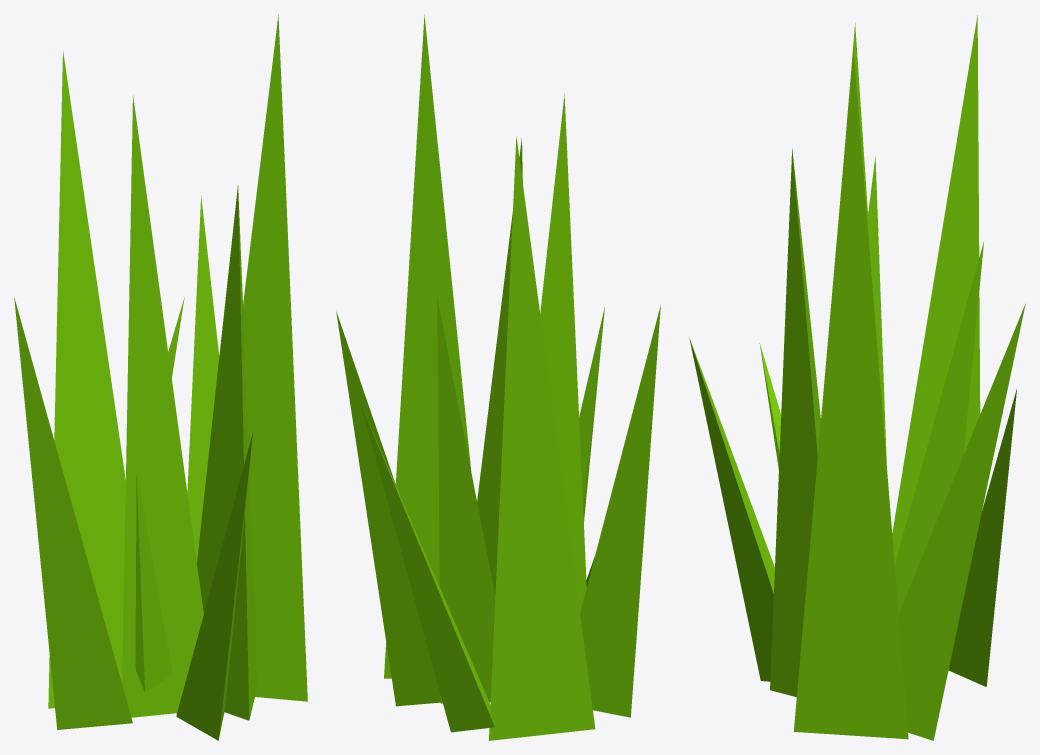
Rendered from grass_bud.obj.
3 renders of one model, left to right at view 1: azimuth 30°, elevation 25°; view 2: azimuth 150°, elevation 25°; view 3: azimuth 270°, elevation 25°, orthographic. The views are drawn at different scales.
Visible parts, largest first — view 1: Cone.001_Cone.004, Cone_Cone.003, Cone.004_Cone.007, Cone.006_Cone.009, Cone.003_Cone.006, Cone.007_Cone.010, Cone.005_Cone.008, Cone.009_Cone.012; view 2: Cone.004_Cone.007, Cone.001_Cone.004, Cone.006_Cone.009, Cone.002_Cone.005, Cone_Cone.003, Cone.005_Cone.008, Cone.008_Cone.011, Cone.003_Cone.006, Cone.007_Cone.010; view 3: Cone.001_Cone.004, Cone.005_Cone.008, Cone.003_Cone.006, Cone.004_Cone.007, Cone.002_Cone.005, Cone.007_Cone.010, Cone.008_Cone.011, Cone.006_Cone.009, Cone.009_Cone.012, Cone_Cone.003.
Part boxes in pixels (bbox=[...]): Cone.001_Cone.004: bbox=[243, 14, 307, 701]; Cone_Cone.003: bbox=[122, 95, 203, 717]; Cone.004_Cone.007: bbox=[48, 51, 125, 708]; Cone.006_Cone.009: bbox=[14, 298, 132, 729]; Cone.003_Cone.006: bbox=[197, 185, 256, 720]; Cone.007_Cone.010: bbox=[176, 431, 253, 740]; Cone.005_Cone.008: bbox=[187, 195, 219, 561]; Cone.009_Cone.012: bbox=[135, 473, 172, 692]; Cone.004_Cone.007: bbox=[489, 136, 595, 740]; Cone.001_Cone.004: bbox=[384, 14, 471, 678]; Cone.006_Cone.009: bbox=[580, 304, 660, 717]; Cone.002_Cone.005: bbox=[437, 296, 495, 703]; Cone_Cone.003: bbox=[540, 94, 586, 612]; Cone.005_Cone.008: bbox=[336, 312, 440, 706]; Cone.008_Cone.011: bbox=[360, 403, 494, 732]; Cone.003_Cone.006: bbox=[477, 138, 522, 594]; Cone.007_Cone.010: bbox=[579, 307, 604, 521]; Cone.001_Cone.004: bbox=[793, 48, 908, 739]; Cone.005_Cone.008: bbox=[898, 304, 1025, 740]; Cone.003_Cone.006: bbox=[770, 148, 820, 696]; Cone.004_Cone.007: bbox=[892, 15, 980, 563]; Cone.002_Cone.005: bbox=[894, 242, 983, 613]; Cone.007_Cone.010: bbox=[689, 338, 774, 681]; Cone.008_Cone.011: bbox=[948, 389, 1016, 686]; Cone.006_Cone.009: bbox=[868, 156, 886, 461]; Cone.009_Cone.012: bbox=[759, 343, 781, 469]; Cone_Cone.003: bbox=[844, 23, 874, 311].
Bounding box in the file's own units: 0.536 × 1.3 × 0.5682.
